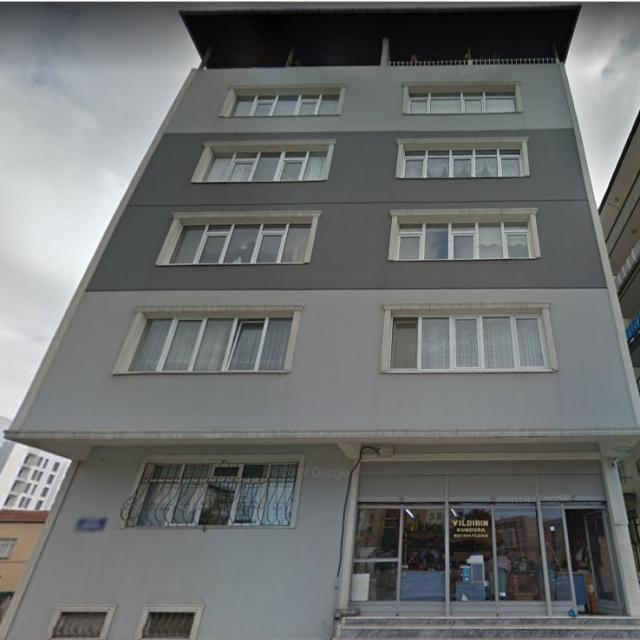Building: (0, 2, 640, 640)
